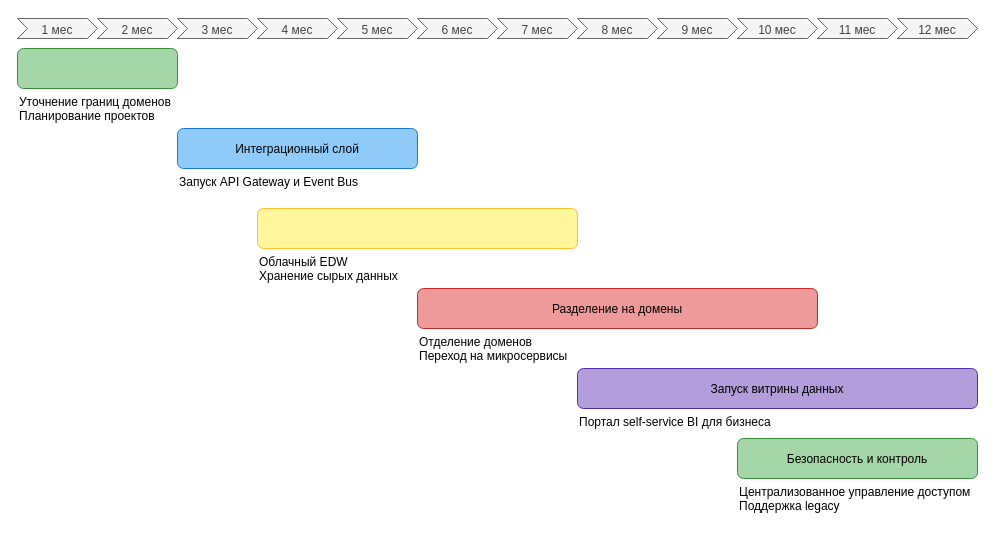
Image size: 995x535. Some labels were removed from this diagram. Each missing label, with the centre of its shape:
"Модернизация DWH и Data Lake" belongs at (x=417, y=228).
"Формирование архитектуры" belongs at (x=97, y=68).
